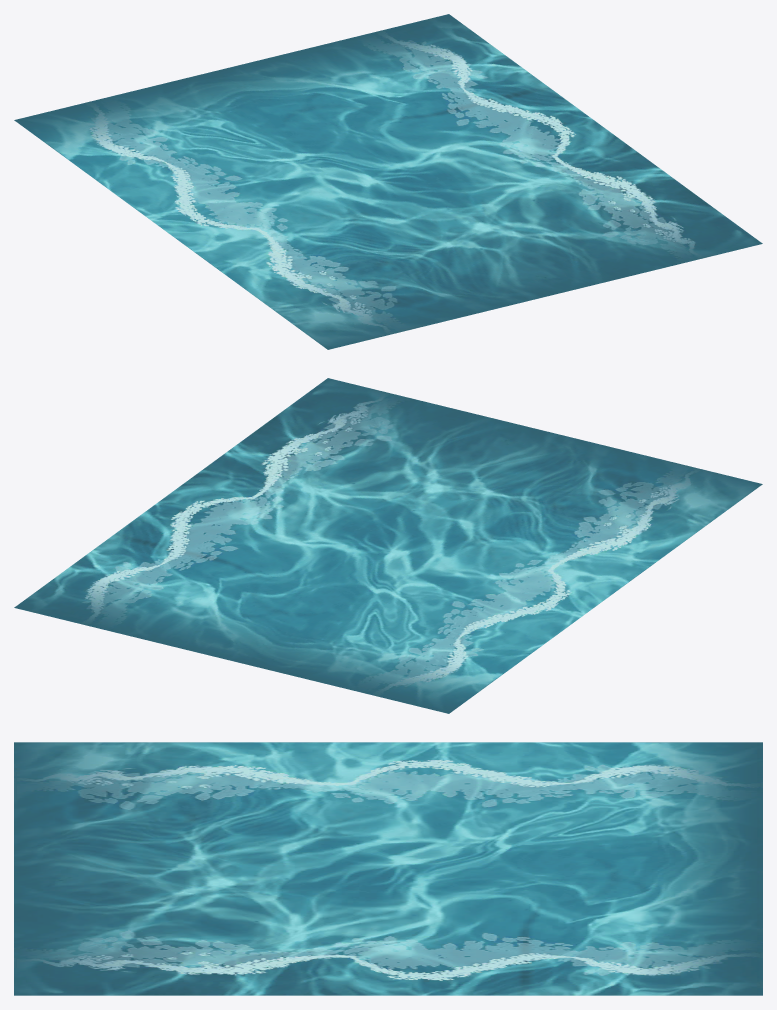
File: water.fbx
The picture shows the model from 3 angles, top to bottom: view 1: azimuth 30°, elevation 25°; view 2: azimuth 150°, elevation 25°; view 3: azimuth 270°, elevation 25°; orthographic projection. The views are drawn at different scales.
Parts seen in each view (by area): view 1: water; view 2: water; view 3: water.
Part boxes in pixels (left/top/right/bottom): water: left=14, top=14, right=762, bottom=349; water: left=14, top=378, right=762, bottom=713; water: left=14, top=742, right=762, bottom=995.
Size of the model in its own units: 200 by 8.13e-05 by 250.
